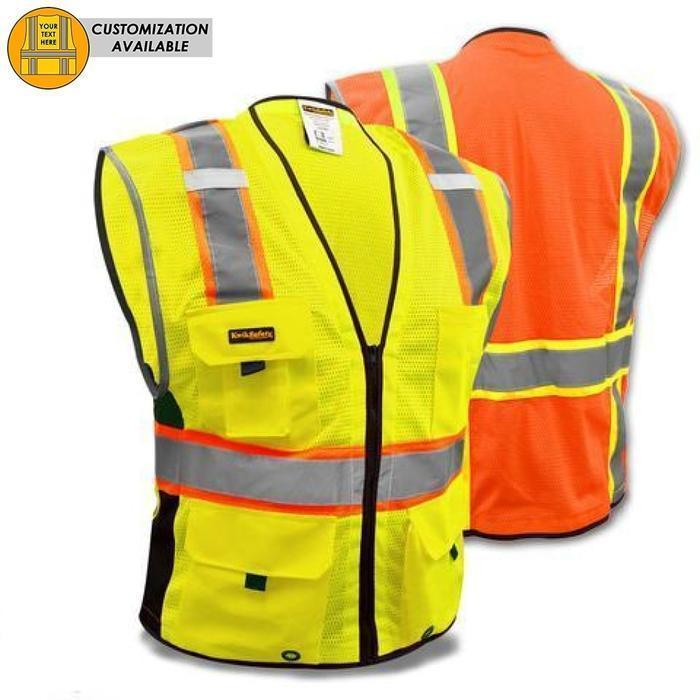vest: (74, 95, 513, 671), (313, 31, 686, 540)
